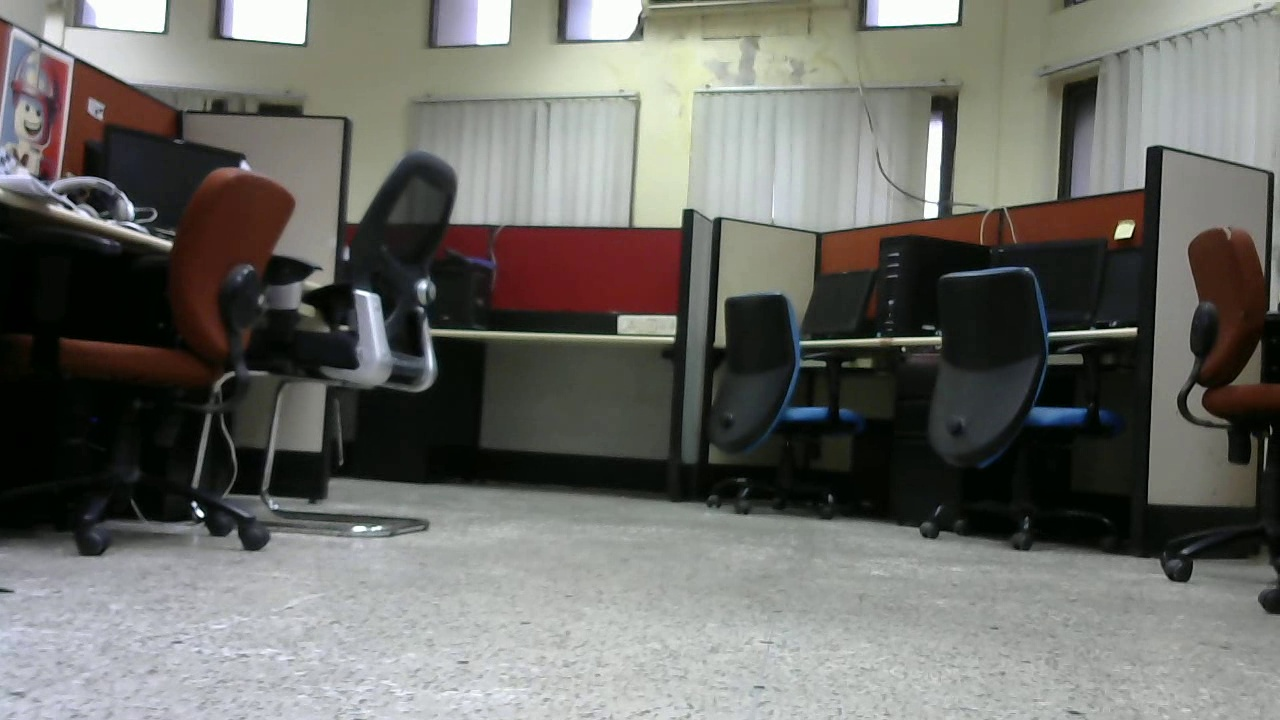chair: (1, 176, 301, 551), (293, 150, 461, 541), (915, 264, 1121, 559), (1170, 225, 1280, 617), (680, 292, 872, 516)
